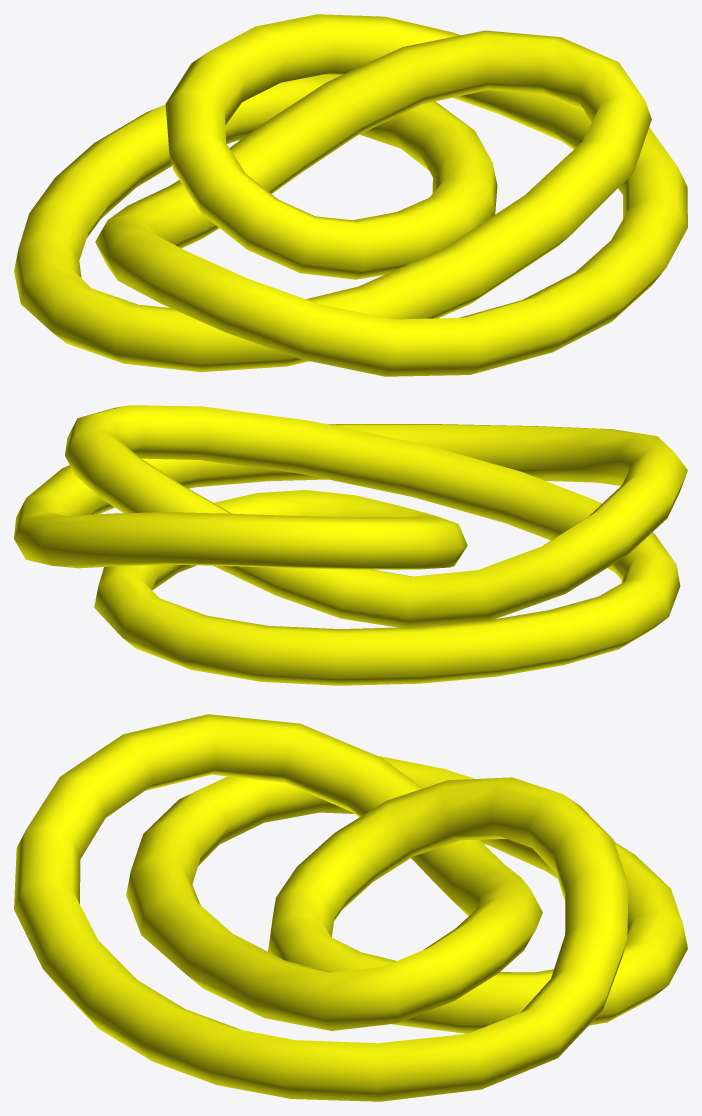
Rendered from kaykit-rope-bundle-b.glb.
The picture shows the model from 3 angles, top to bottom: view 1: azimuth 30°, elevation 25°; view 2: azimuth 150°, elevation 25°; view 3: azimuth 270°, elevation 25°; orthographic projection. The views are drawn at different scales.
Parts seen in each view (by area): view 1: rope_bundle_B; view 2: rope_bundle_B; view 3: rope_bundle_B.
Boxes of the visible parts, x1,y1,x2,y2 form: rope_bundle_B: [14, 14, 687, 376]; rope_bundle_B: [14, 405, 687, 685]; rope_bundle_B: [14, 714, 687, 1101].
Bounding box in the file's own units: 1.06 × 0.2329 × 0.954.
